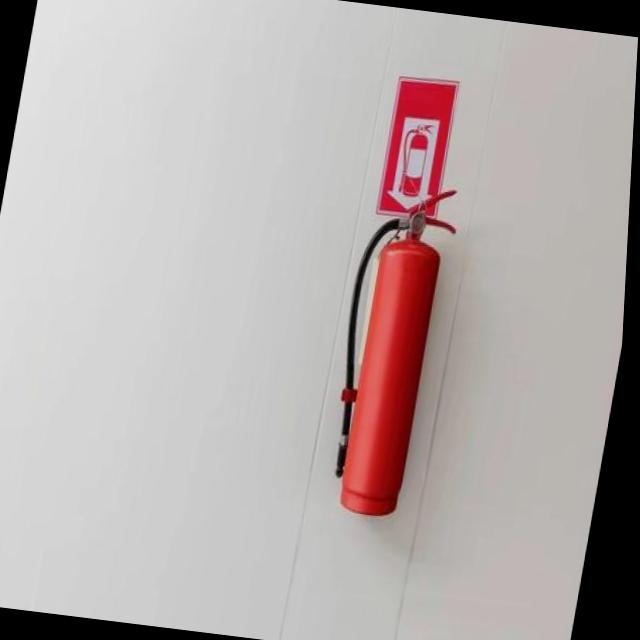FireExtinguisher: (315, 170, 468, 524)
